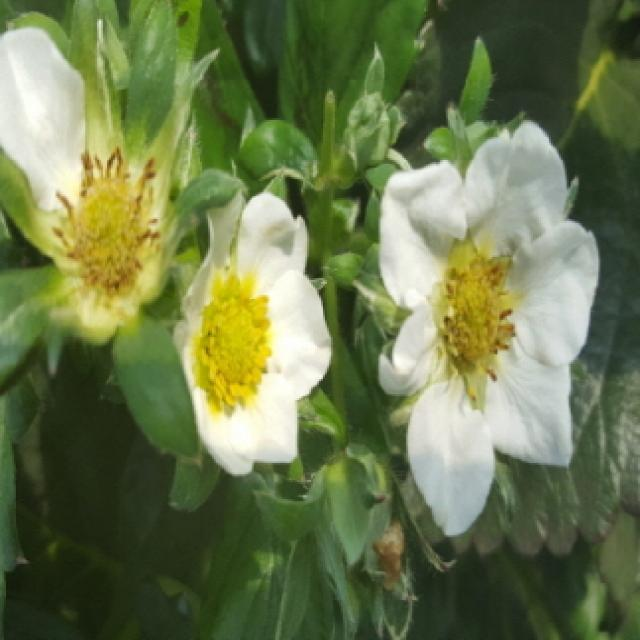Blossom Blight: (42, 136, 176, 325), (424, 223, 525, 418)
